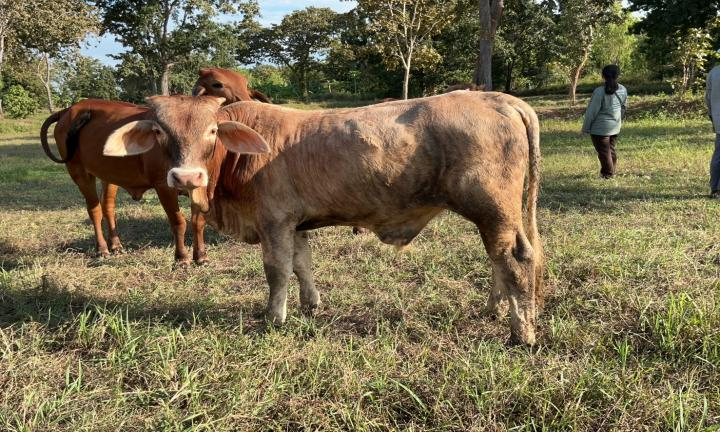Charolais: (103, 91, 542, 343)
